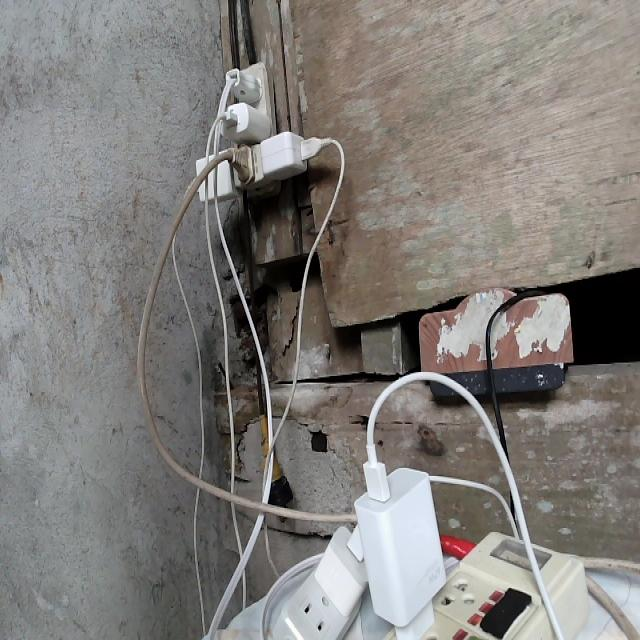-: (170, 50, 349, 242)
